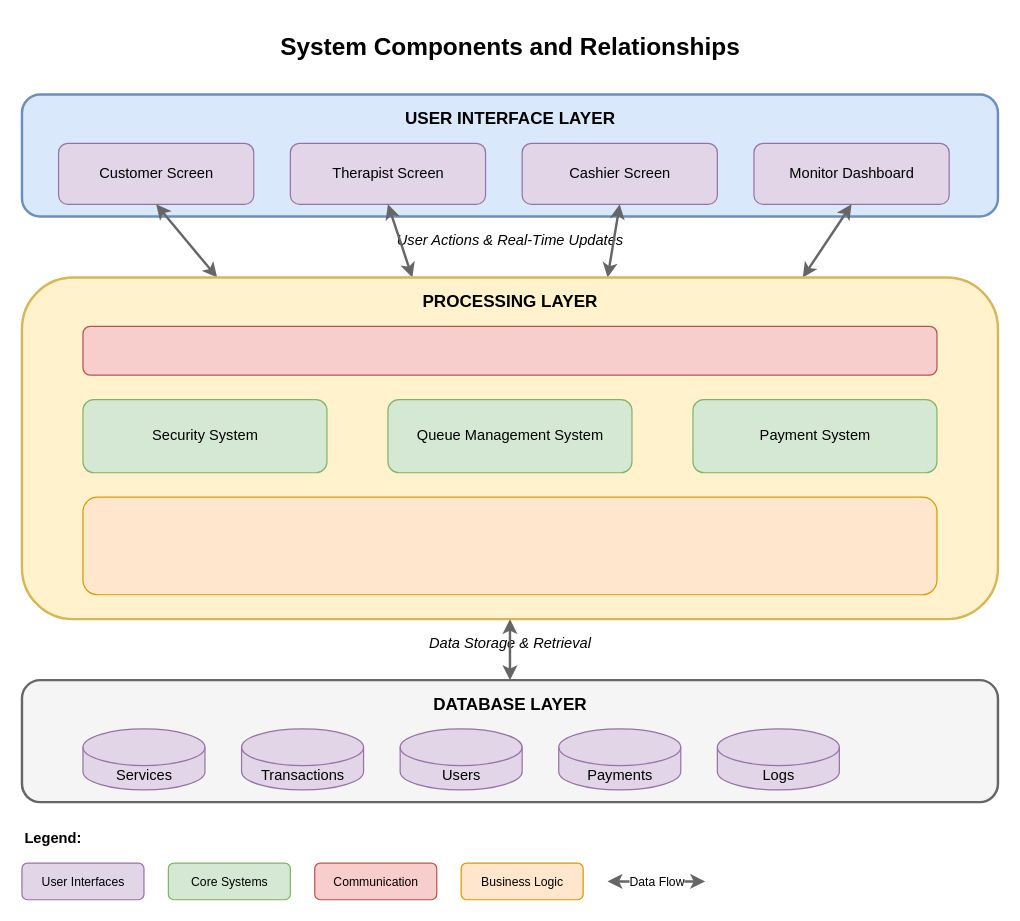
This 1020x921 diagram has some shape labels left out. The centre of each missing label's shape, as x and y in pixels:
"Business Rules & Request Processing" goes at point 509,545.
"Real-Time Communication System" goes at point 509,350.
